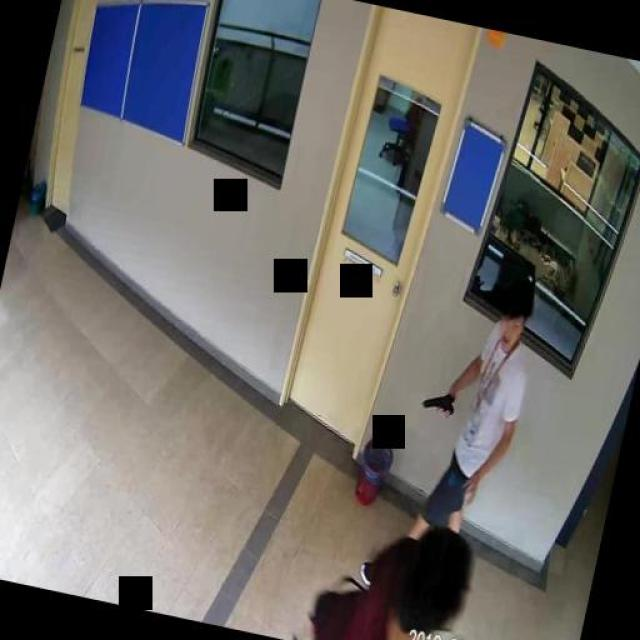gun: (418, 388, 454, 418)
